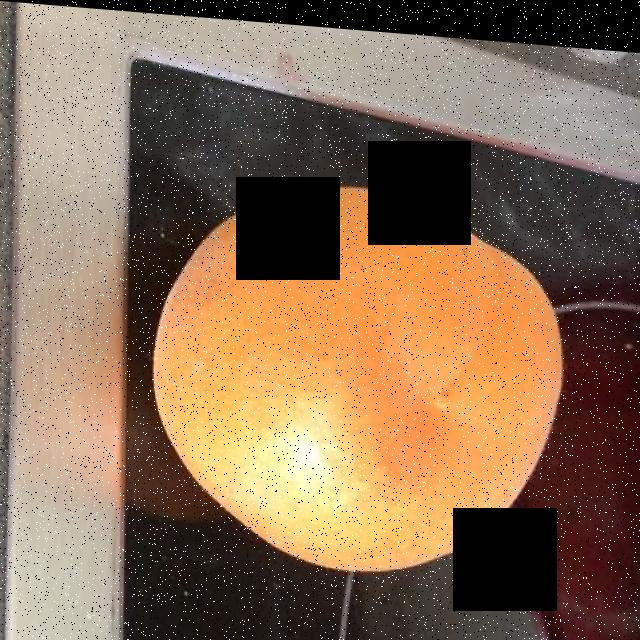grapefruit-pomelo: (161, 182, 565, 559)
